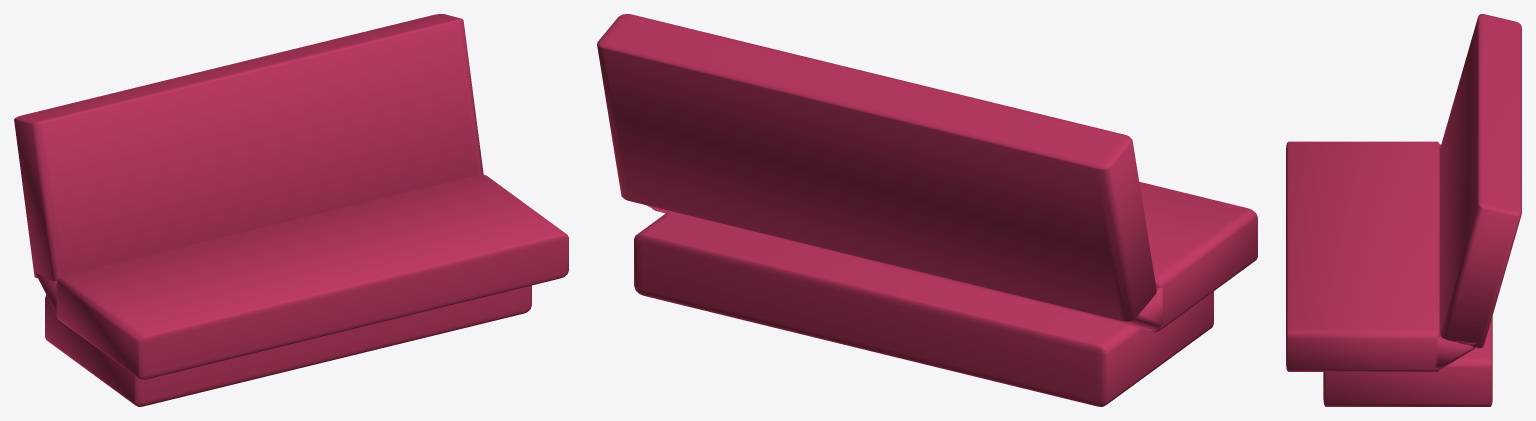
Rendered from clicClac.obj.
The picture shows the model from 3 angles, left to right: view 1: azimuth 30°, elevation 25°; view 2: azimuth 150°, elevation 25°; view 3: azimuth 270°, elevation 25°; orthographic projection. The views are drawn at different scales.
Parts seen in each view (by area): view 1: mattress_2_7, mattress_1_6, mattress_1; view 2: mattress_2_7, mattress_1, mattress_1_6, mattress_3_8; view 3: mattress_1_6, mattress_2_7, mattress_1, mattress_3_8.
Part boxes in pixels (<box>): mattress_2_7: <box>14,14,483,281</box>; mattress_1_6: <box>56,174,568,379</box>; mattress_1: <box>45,285,531,406</box>; mattress_2_7: <box>597,14,1156,321</box>; mattress_1: <box>634,212,1213,406</box>; mattress_1_6: <box>652,182,1257,332</box>; mattress_3_8: <box>647,205,1162,331</box>; mattress_1_6: <box>1286,141,1440,371</box>; mattress_2_7: <box>1440,14,1521,348</box>; mattress_1: <box>1323,316,1492,406</box>; mattress_3_8: <box>1435,144,1475,370</box>.
Size of the model in its own units: 182 by 93.1 by 93.36.
Materials: 2 (1 with a texture image).
